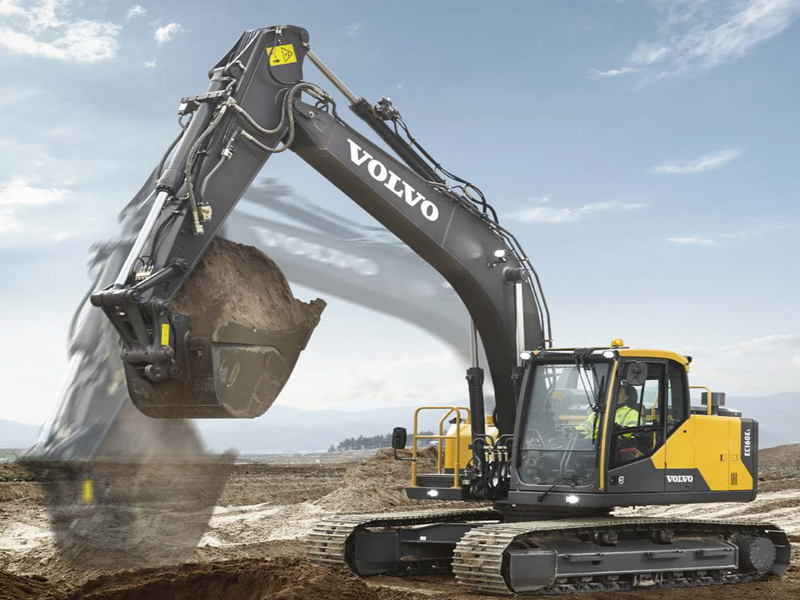shovel: (86, 20, 794, 600)
